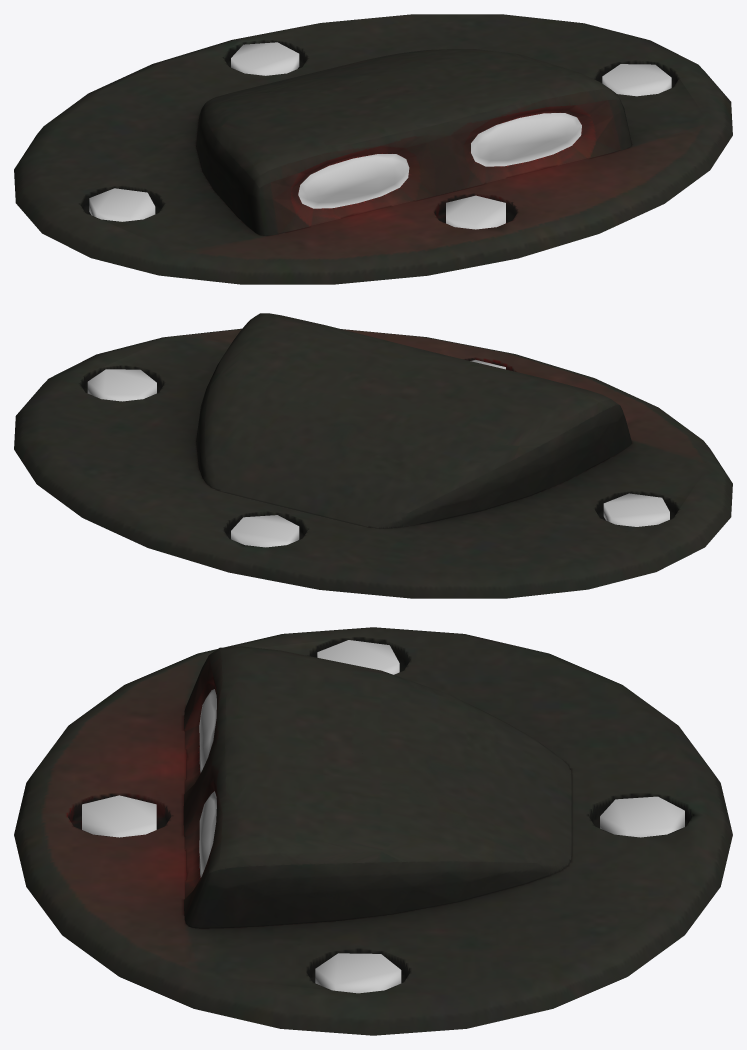
Rendered from unterflurfeuer_rot.fbx.
The picture shows the model from 3 angles, top to bottom: view 1: azimuth 30°, elevation 25°; view 2: azimuth 150°, elevation 25°; view 3: azimuth 270°, elevation 25°; orthographic projection. The views are drawn at different scales.
Visible parts, largest first — view 1: Mesh; view 2: Mesh; view 3: Mesh.
Boxes of the visible parts, x1,y1,x2,y2 form: Mesh: (14, 14, 732, 284); Mesh: (14, 313, 732, 598); Mesh: (14, 627, 732, 1035).
Size of the model in its own units: 31.36 by 3.31 by 23.72.
